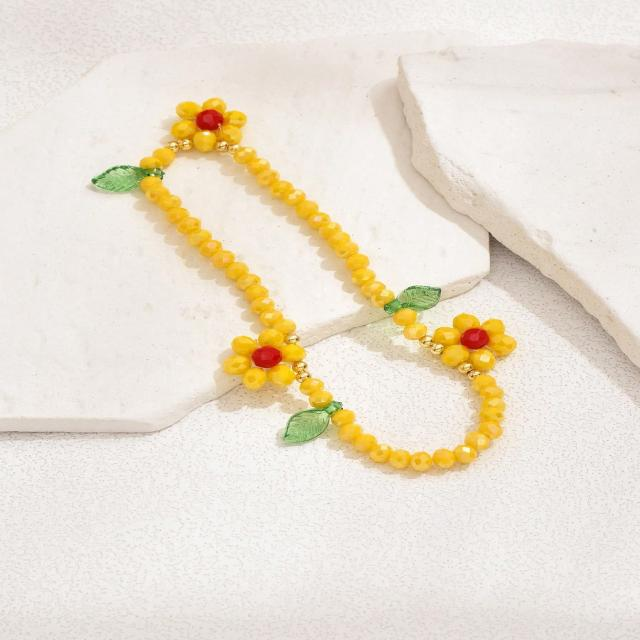bracelet: (70, 59, 616, 508)
